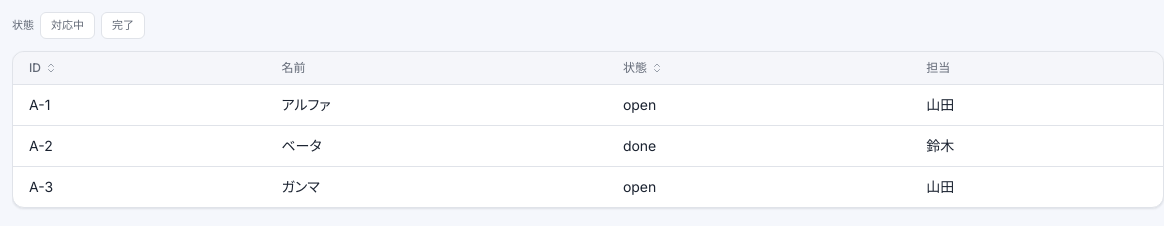
Test: DataTable (Phase 3) › filter で絞り込み、解除で復元
Click the button "完了". click: (123, 25)
box: [101,12,145,38]
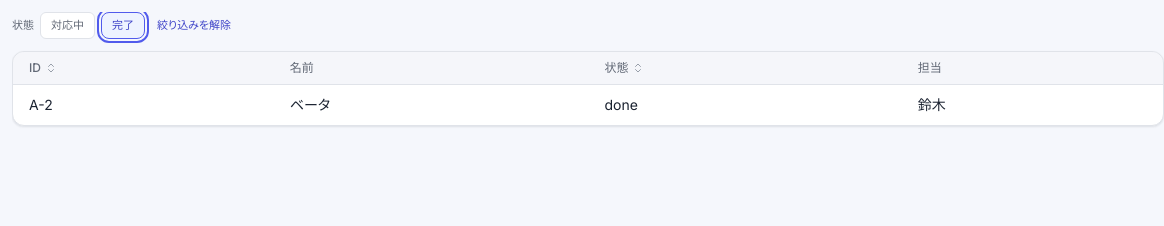
Expected: the link "A-2" is shown, [29,96,53,112]
Expected: the link "A-1" is gone
Click the button "絞り込みを解除". click: (194, 25)
box: [157,17,231,34]
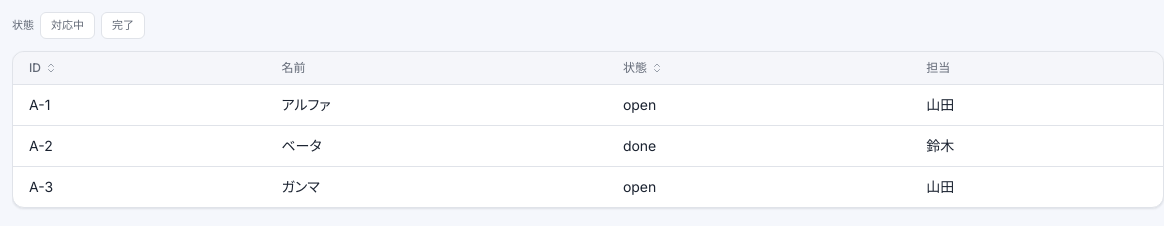
Expected: the link "A-1" is shown, [29,96,50,112]
